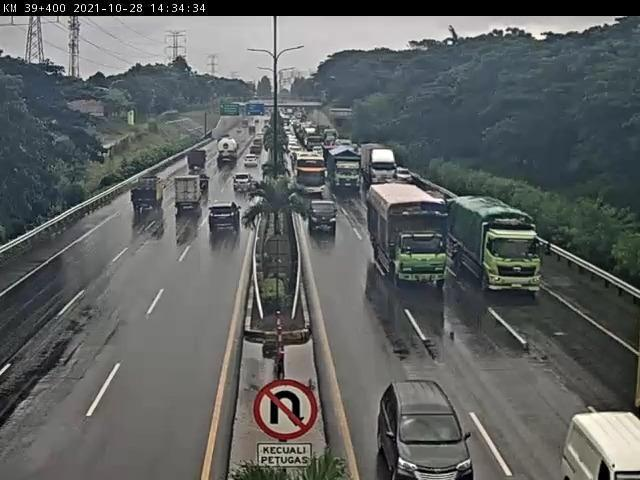bus: (293, 153, 329, 202)
car: (378, 381, 473, 480), (303, 199, 339, 236), (208, 203, 246, 235), (228, 174, 256, 200)
truck: (448, 197, 547, 298), (369, 183, 450, 288), (326, 143, 362, 191), (360, 143, 398, 183), (130, 177, 166, 218), (172, 177, 206, 215), (185, 151, 211, 176)
